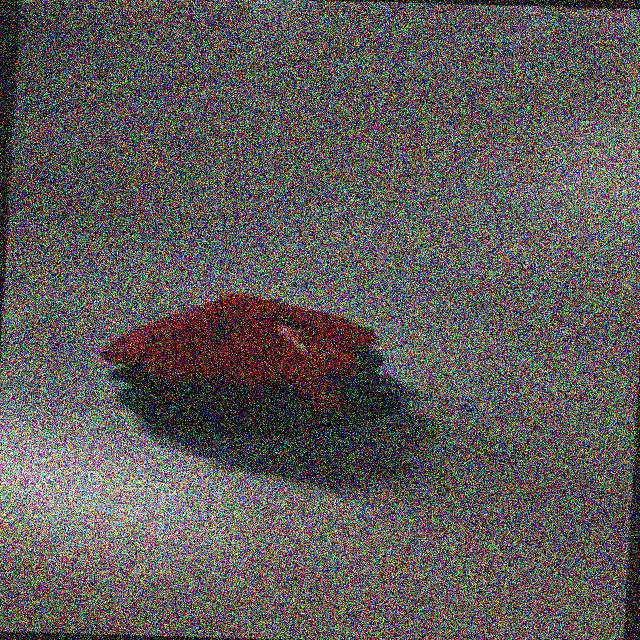House: (94, 288, 412, 440)
